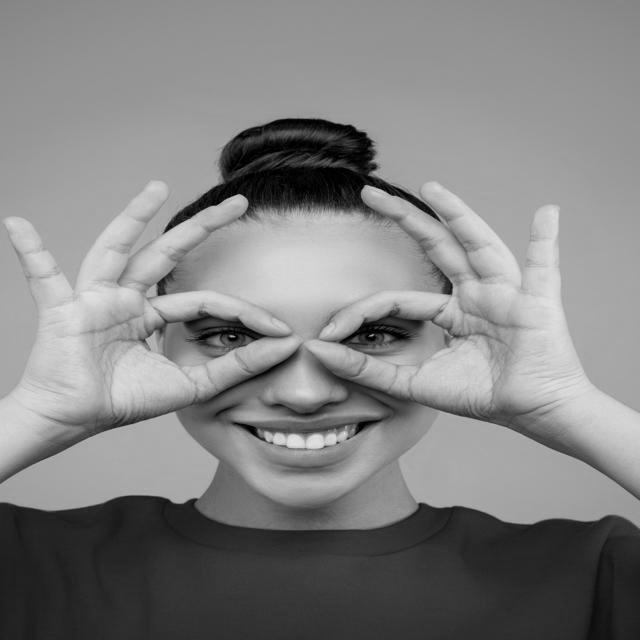Happiness: (160, 210, 448, 511)
